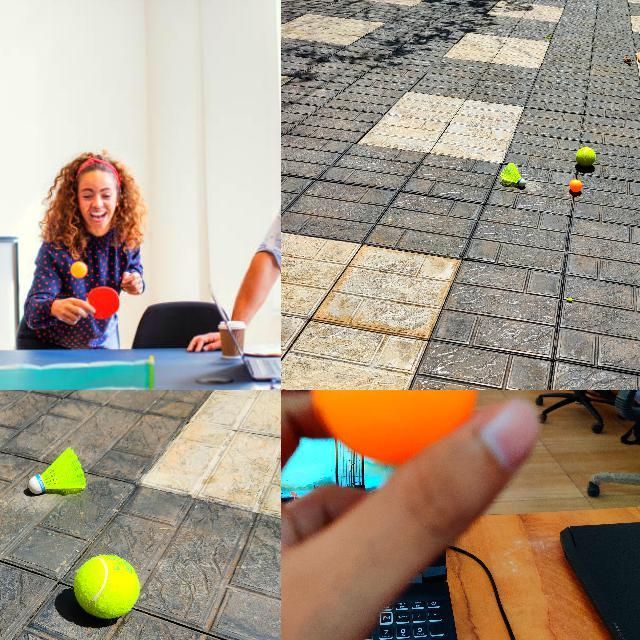ping-pong-ball: (311, 390, 478, 463), (68, 263, 86, 279), (570, 179, 582, 193)
